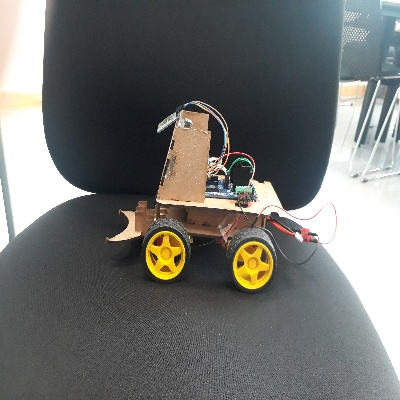Robot: (104, 101, 288, 293)
